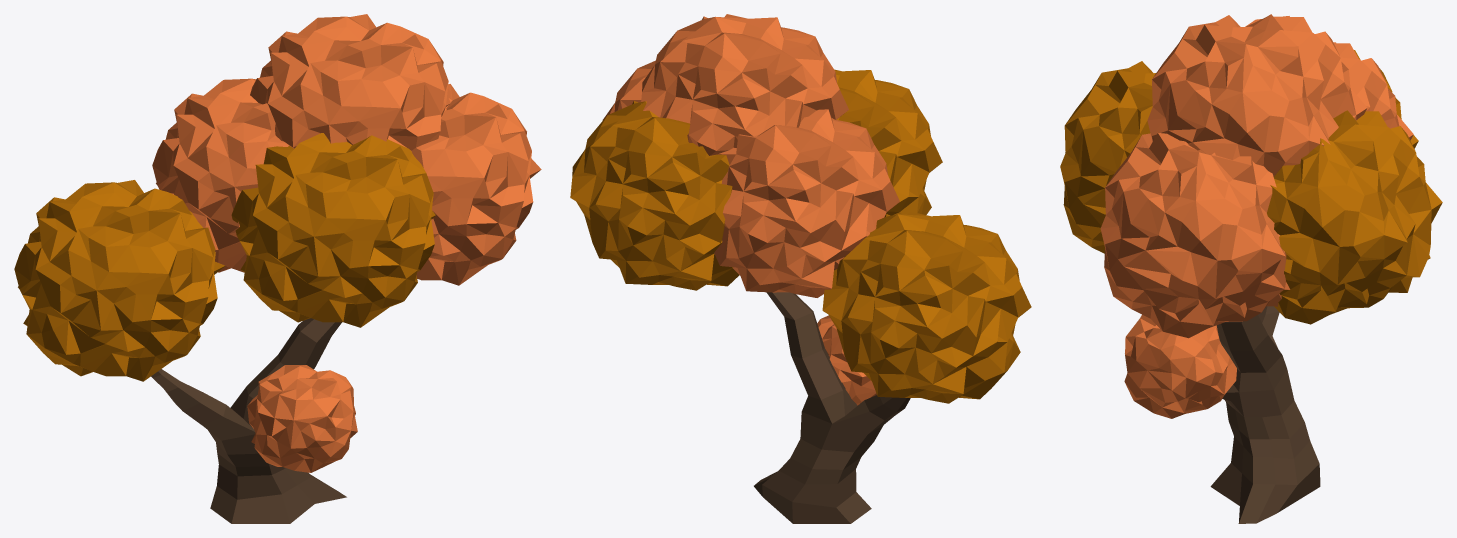
Rendered from fall tree 5.fbx.
3 renders of one model, left to right at view 1: azimuth 30°, elevation 25°; view 2: azimuth 150°, elevation 25°; view 3: azimuth 270°, elevation 25°, orthographic. The views are drawn at different scales.
Visible parts, largest first — view 1: LowPoly Tree .004; view 2: LowPoly Tree .004; view 3: LowPoly Tree .004.
Boxes of the visible parts, x1=… form: LowPoly Tree .004: x1=14, y1=14, x2=541, y2=523; LowPoly Tree .004: x1=570, y1=14, x2=1031, y2=523; LowPoly Tree .004: x1=1060, y1=14, x2=1442, y2=523.
Bounding box in the file's own units: 226 × 220 × 152.
